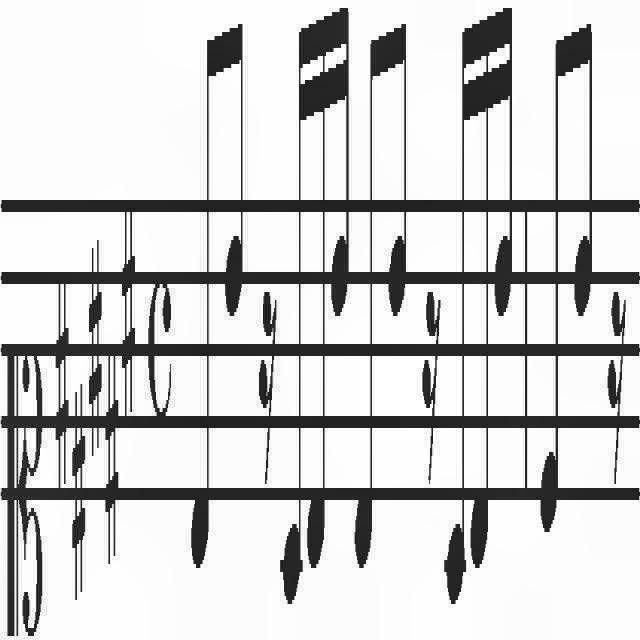Diez: (120, 189, 140, 447), (53, 266, 71, 504), (85, 227, 103, 458), (104, 348, 122, 560), (70, 367, 86, 598)
Eighth-note: (533, 8, 563, 574), (183, 17, 213, 577), (354, 26, 374, 592), (381, 8, 411, 338), (570, 0, 598, 328), (220, 5, 246, 342)
Sixteenth-note: (274, 12, 308, 616), (440, 3, 468, 620), (308, 1, 328, 583), (470, 9, 490, 576), (328, 0, 355, 340), (494, 1, 518, 343)
